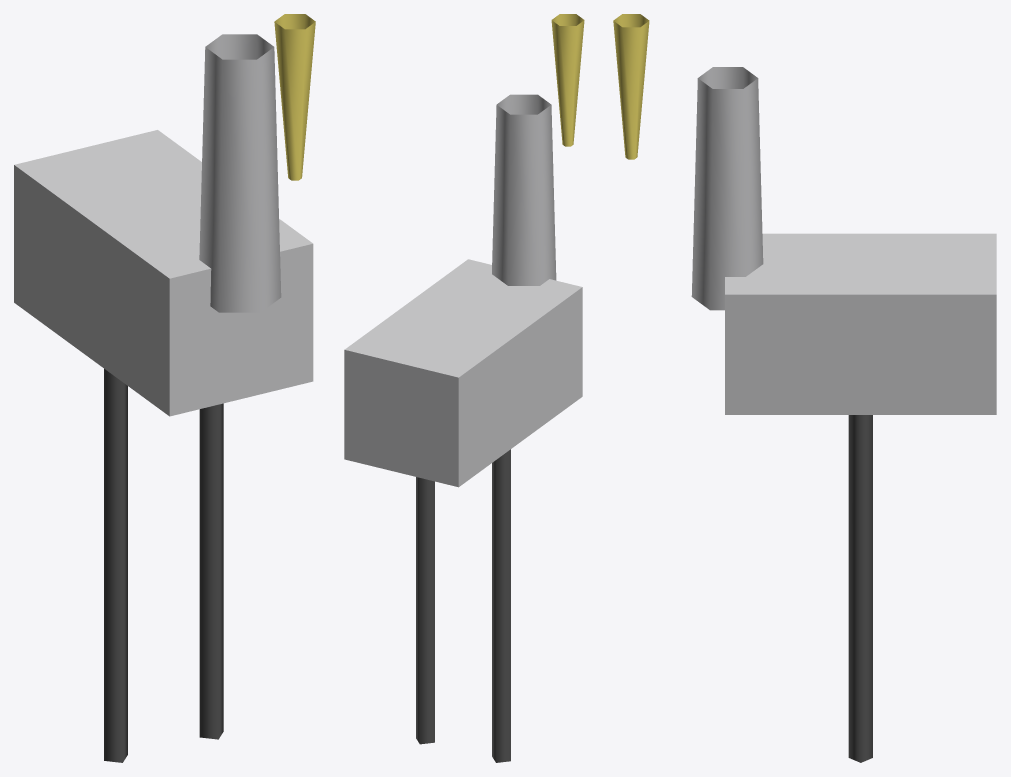
The model's file is egret.glb.
3 renders of one model, left to right at view 1: azimuth 30°, elevation 25°; view 2: azimuth 150°, elevation 25°; view 3: azimuth 270°, elevation 25°, orthographic. The views are drawn at different scales.
Parts seen in each view (by area): view 1: Body_Node, Neck_Node, Leg_L_Node, Leg_R_Node, Beak_Node; view 2: Body_Node, Neck_Node, Leg_L_Node, Leg_R_Node, Beak_Node; view 3: Body_Node, Neck_Node, Leg_R_Node, Beak_Node.
Part boxes in pixels (left/top/right/bottom): Body_Node: left=14, top=130, right=313, bottom=416; Neck_Node: left=199, top=34, right=281, bottom=312; Leg_L_Node: left=104, top=369, right=127, bottom=762; Leg_R_Node: left=199, top=403, right=223, bottom=739; Beak_Node: left=274, top=14, right=315, bottom=180; Body_Node: left=344, top=259, right=582, bottom=487; Neck_Node: left=492, top=94, right=556, bottom=285; Leg_L_Node: left=492, top=449, right=510, bottom=762; Leg_R_Node: left=416, top=477, right=434, bottom=744; Beak_Node: left=551, top=14, right=584, bottom=146; Body_Node: left=725, top=233, right=996, bottom=414; Neck_Node: left=691, top=67, right=763, bottom=310; Leg_R_Node: left=848, top=415, right=872, bottom=762; Beak_Node: left=613, top=14, right=649, bottom=159.
Size of the model in its own units: 0.24 by 1.31 by 0.635.
